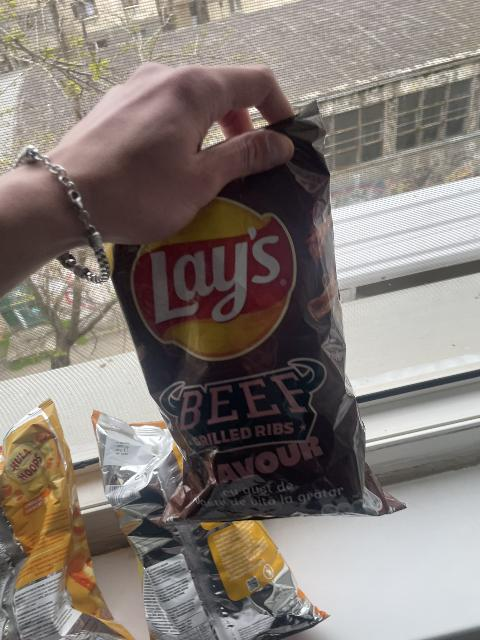Chio Cascaval 125g: (88, 404, 329, 640)
Chio Hula Hoops Cheese 70g: (0, 400, 135, 640)
Lays Beef Grilled Ribs 125g: (98, 99, 409, 523)
